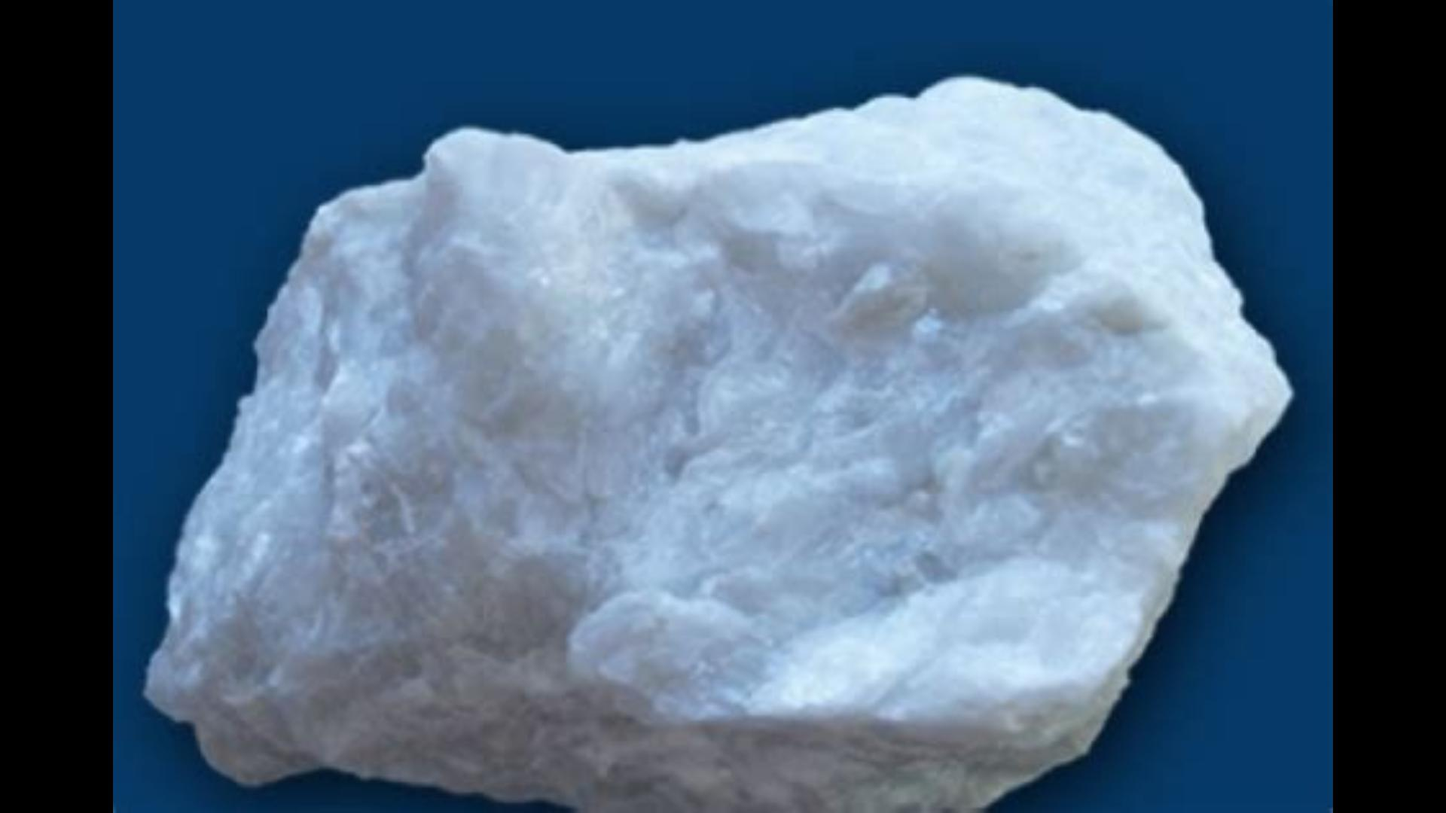rock: (146, 80, 1287, 805)
